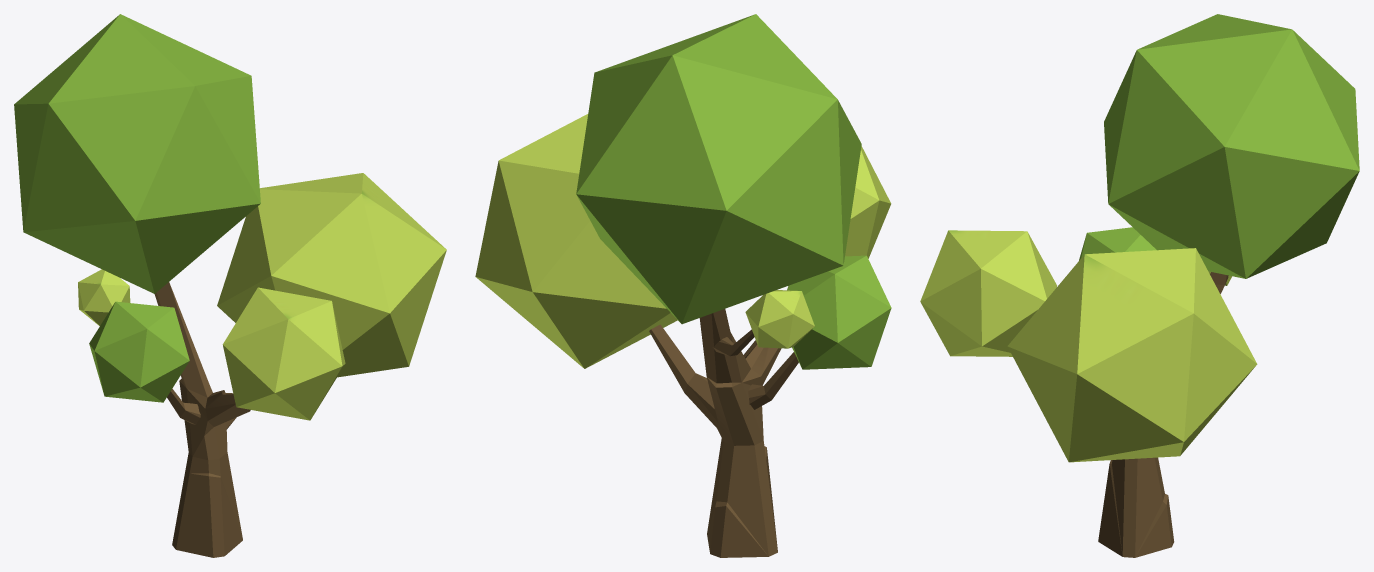
Rendered from model_polytope_tree02.fbx.
3 renders of one model, left to right at view 1: azimuth 30°, elevation 25°; view 2: azimuth 150°, elevation 25°; view 3: azimuth 270°, elevation 25°, orthographic. The views are drawn at different scales.
Parts seen in each view (by area): view 1: model_polytope_tree02; view 2: model_polytope_tree02; view 3: model_polytope_tree02.
Part boxes in pixels (x1,y1,x2,y2): model_polytope_tree02: [14, 14, 446, 557]; model_polytope_tree02: [475, 14, 891, 557]; model_polytope_tree02: [920, 14, 1359, 557].
Bounding box in the file's own units: 439 × 578 × 455.
